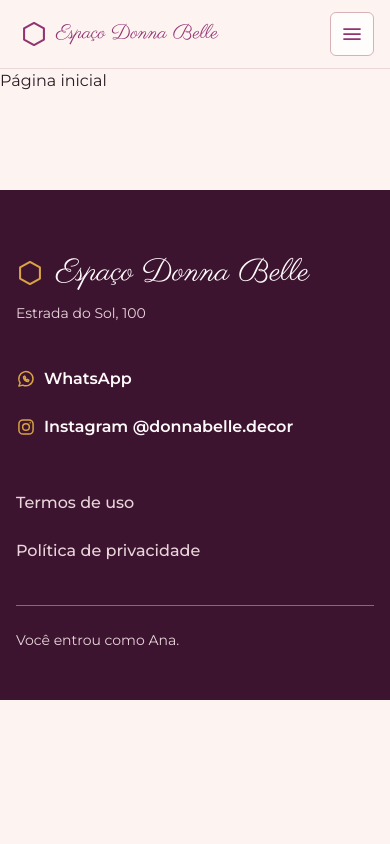
Scenario: menu lateral › mostra as reservas, a saída e quem entrou
Step 1. Click the button named "Menu" → (352, 34), box [330,12,374,56]
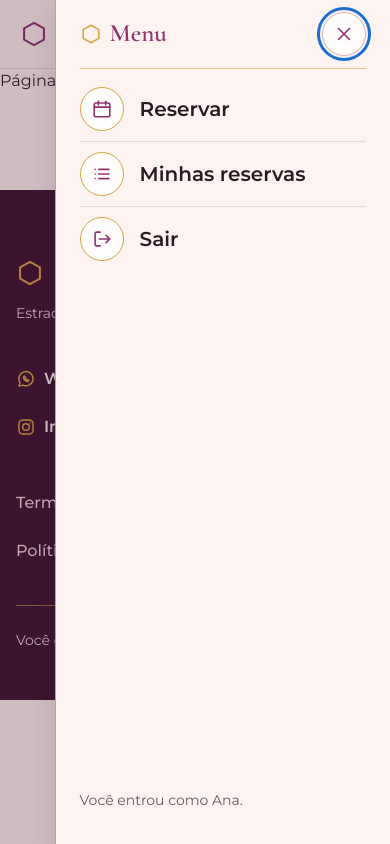
Check: the button "Sair" is shown, box [80,207,366,271]
Check: the text "Você entrou como Ana." is shown, box [80,791,243,809]
